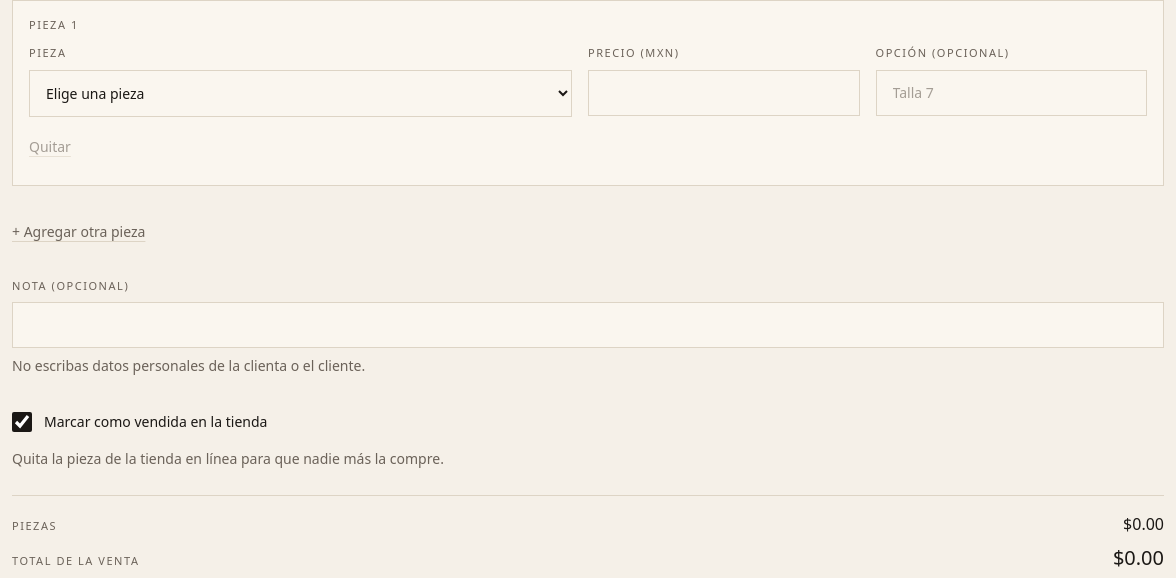
ManualSaleForm: the piece rows › stops at the number of pieces there are to sell
The width and height of the screenshot is (1176, 578).
Click the button "+ Agregar otra pieza".
click(79, 232)  # box [12,210,145,254]
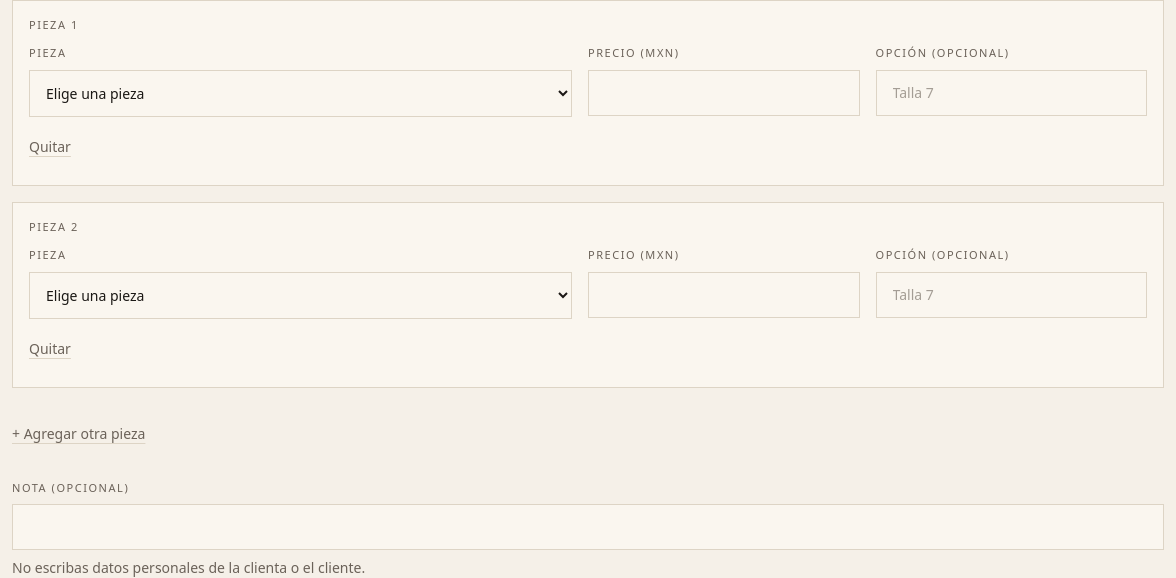
Click the button "+ Agregar otra pieza".
click(79, 434)  # box [12,412,145,456]
(page scrolled)
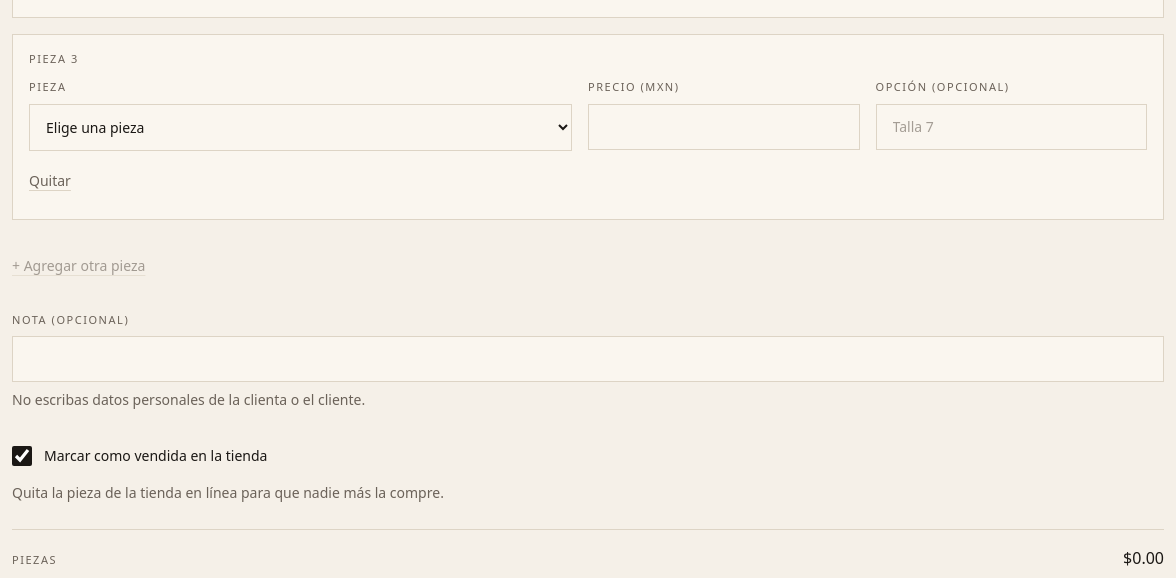
Result: the button "+ Agregar otra pieza" is disabled at [12,244,145,288]
